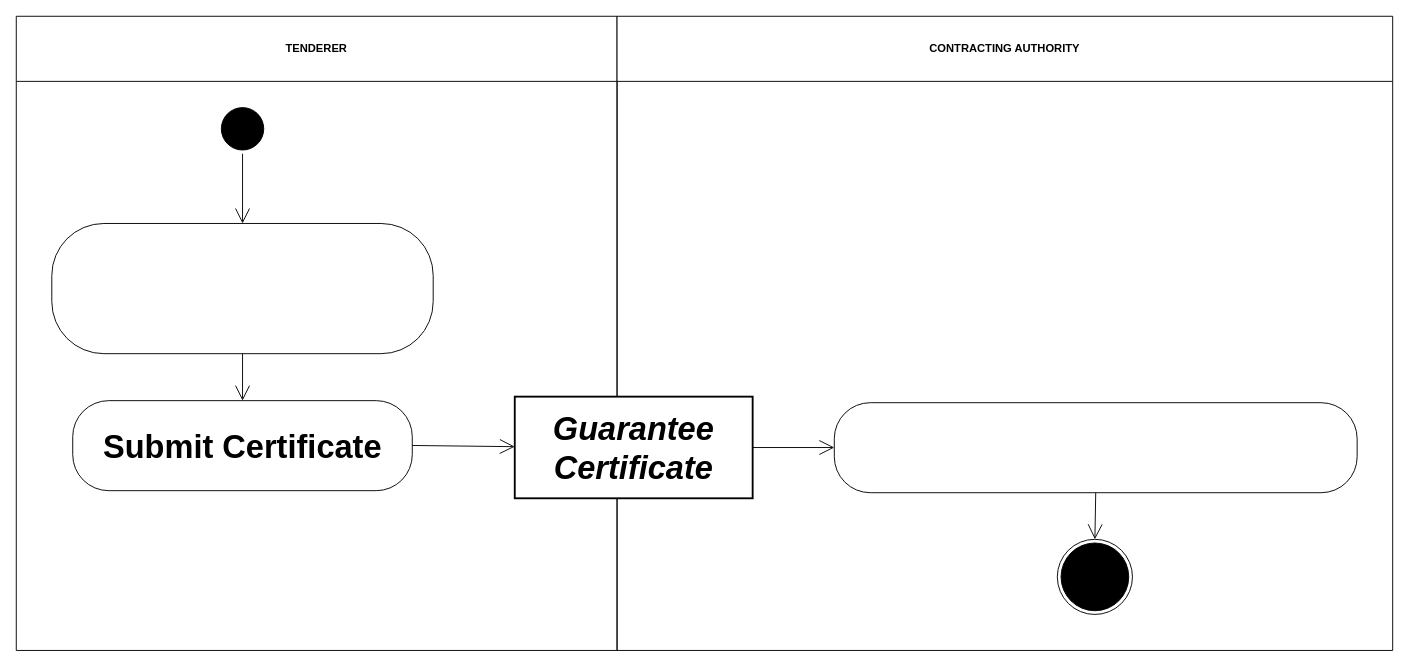
The diagram is 1409 pixels wide and 667 high, and some of its shapes have lost their labels. The shapes that lost their labels are listed below. From the top down, each one's centre as x and y in pixels, then its label:
At (x=242, y=288): "Get Guarantee from financial institution".
At (x=1095, y=447): "Receive guarantee certificate".
